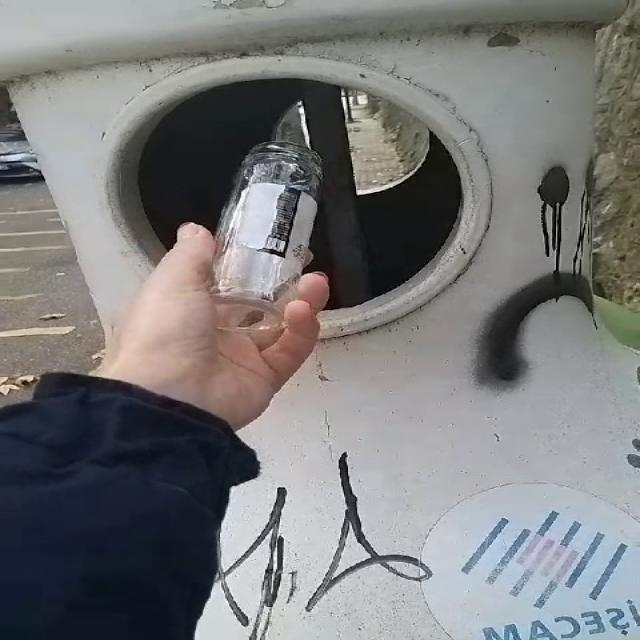glass: (211, 140, 321, 333)
